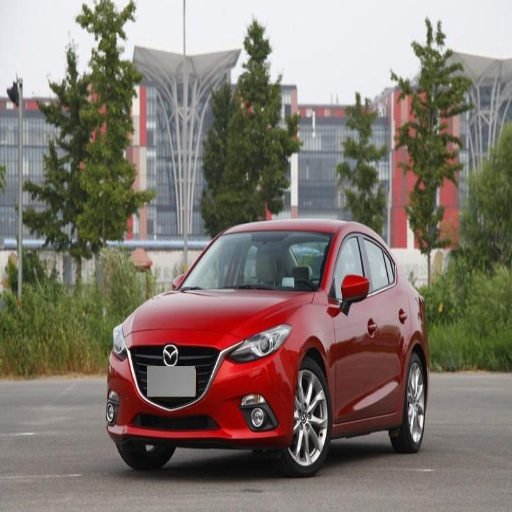back_glass: (361, 230, 408, 412)
back_right_light: (107, 330, 299, 439)
front_bumper: (179, 230, 330, 291)
front_glass: (329, 228, 379, 422)
front_left_door: (224, 324, 290, 362)
front_right_light: (129, 291, 311, 338)
trunk: (285, 362, 331, 475), (391, 355, 427, 453), (118, 439, 174, 470)
